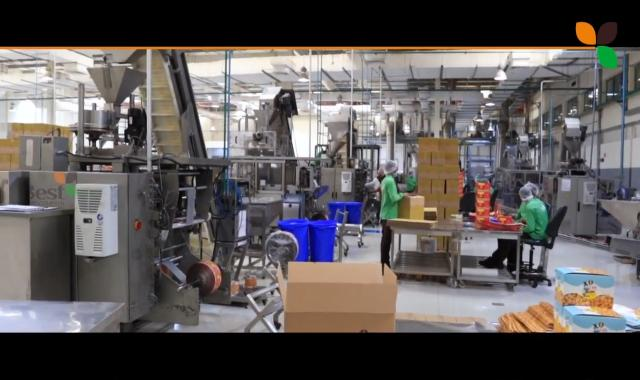hairnet: (522, 182, 536, 202), (381, 159, 396, 176)
